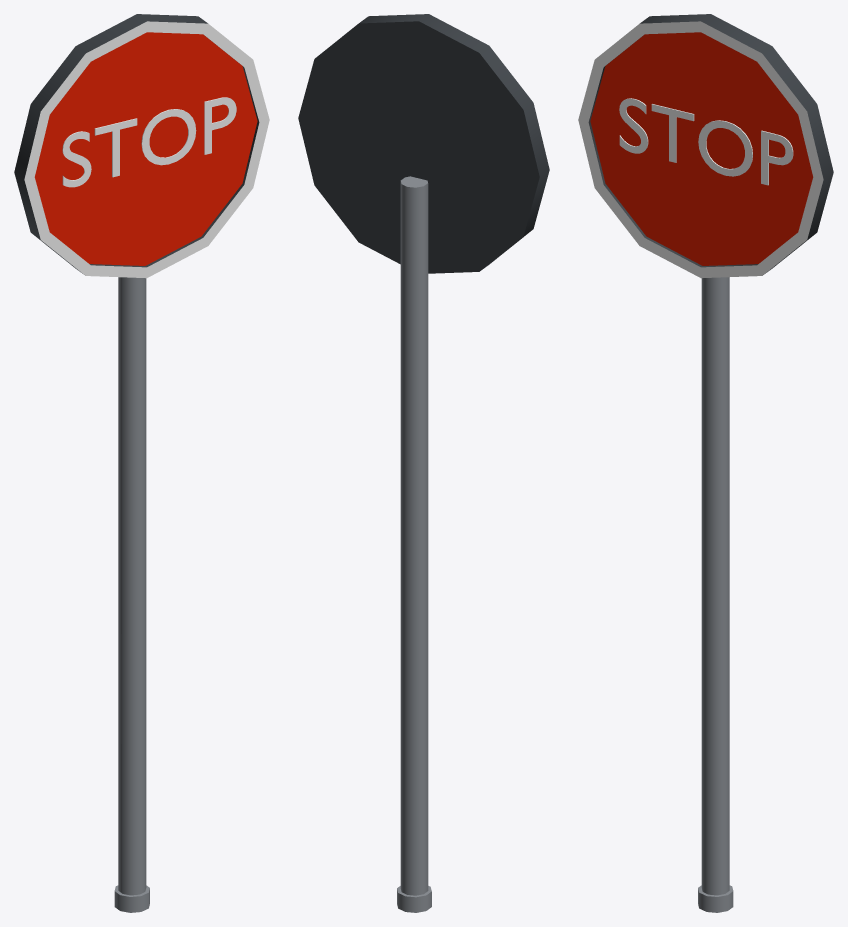
The model's file is Road Sign_4.fbx.
3 renders of one model, left to right at view 1: azimuth 30°, elevation 25°; view 2: azimuth 150°, elevation 25°; view 3: azimuth 330°, elevation 25°, orthographic.
Parts seen in each view (by area): view 1: Road Sign_4; view 2: Road Sign_4; view 3: Road Sign_4.
Boxes of the visible parts, x1=… form: Road Sign_4: x1=14, y1=14, x2=269, y2=912; Road Sign_4: x1=298, y1=14, x2=549, y2=912; Road Sign_4: x1=578, y1=14, x2=833, y2=912.
Size of the model in its own units: 67.25 by 234 by 11.31.
